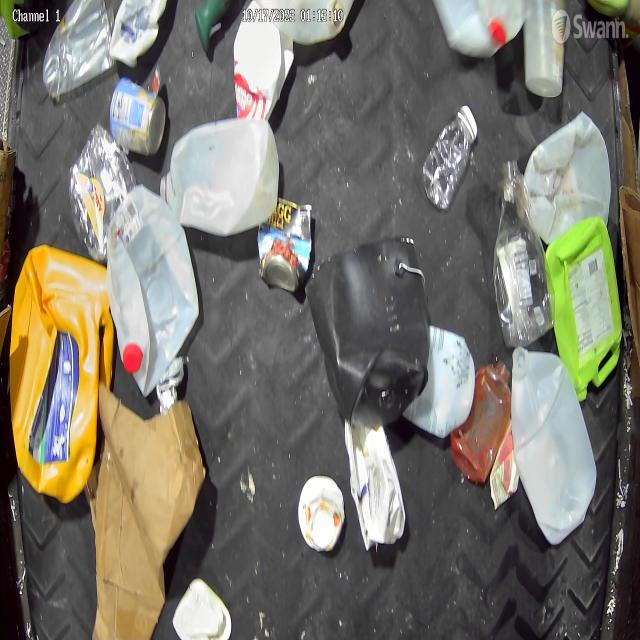can: (259, 198, 311, 292), (110, 78, 168, 158)
milk_jug: (110, 187, 198, 396), (509, 349, 597, 546), (160, 114, 280, 237), (522, 109, 613, 243), (430, 0, 532, 59)
non_white_jug: (11, 241, 111, 502), (306, 236, 429, 427), (545, 217, 623, 400), (493, 160, 554, 349)
plastic_bottle: (420, 103, 480, 213)
